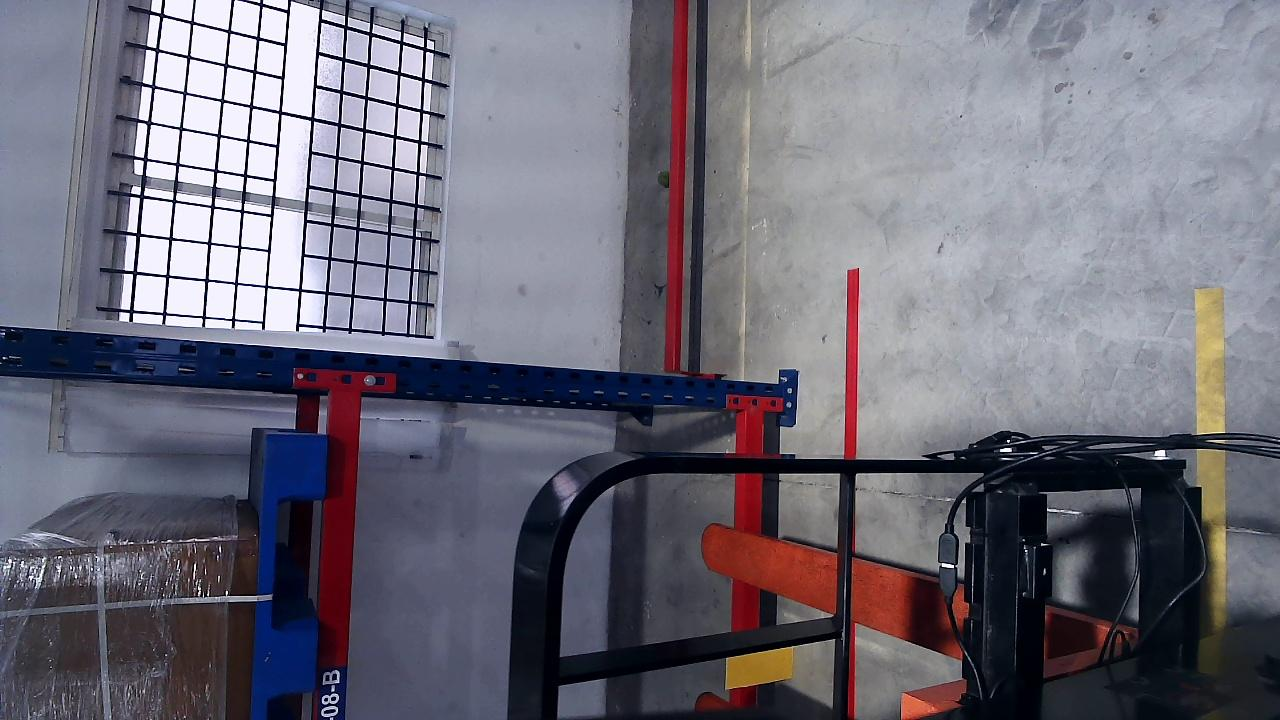h_rack: (312, 389, 363, 719), (734, 410, 763, 626)
orange_strip: (725, 647, 795, 688)
red_line: (844, 267, 861, 456)
small_pallet: (249, 434, 329, 719)
yellow_line: (1199, 449, 1231, 675), (1194, 286, 1226, 433)
